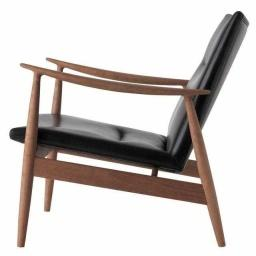Chair: (14, 13, 249, 249)
